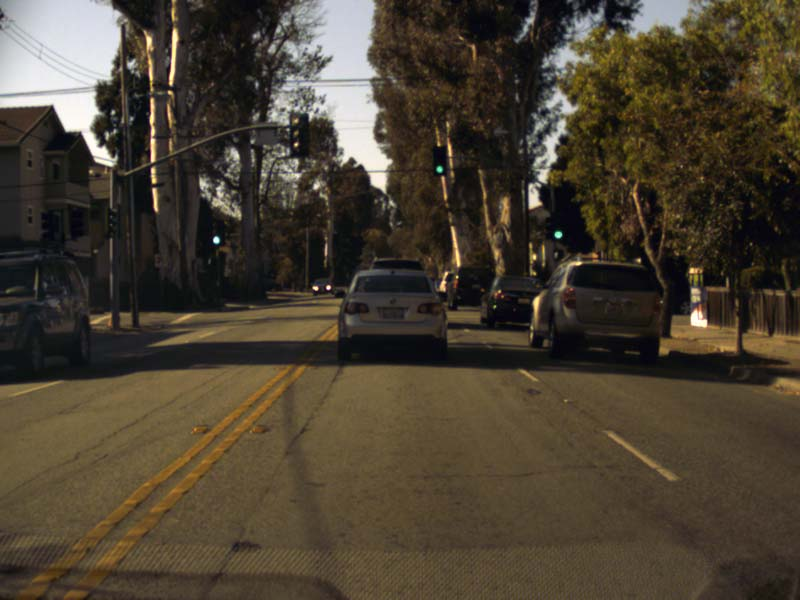Green: (211, 220, 224, 246), (553, 212, 564, 239), (434, 148, 445, 173)
